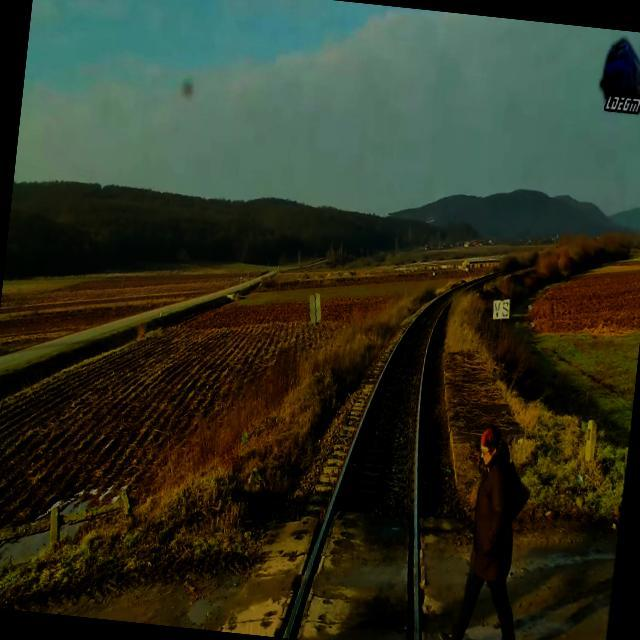danger: (448, 426, 532, 636)
rail: (232, 263, 536, 640)
